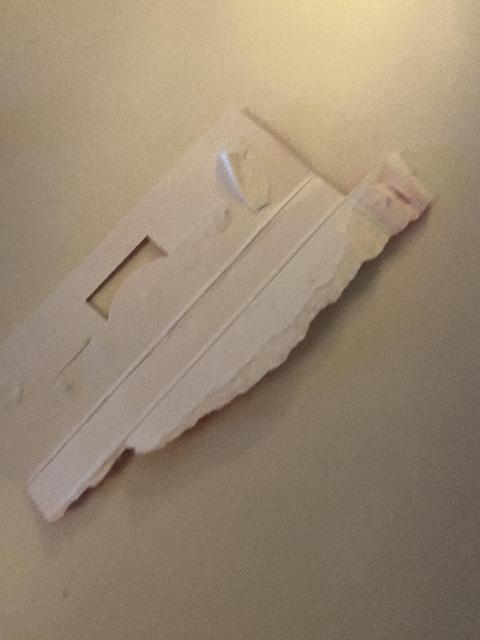Kagit: (0, 97, 441, 527)
